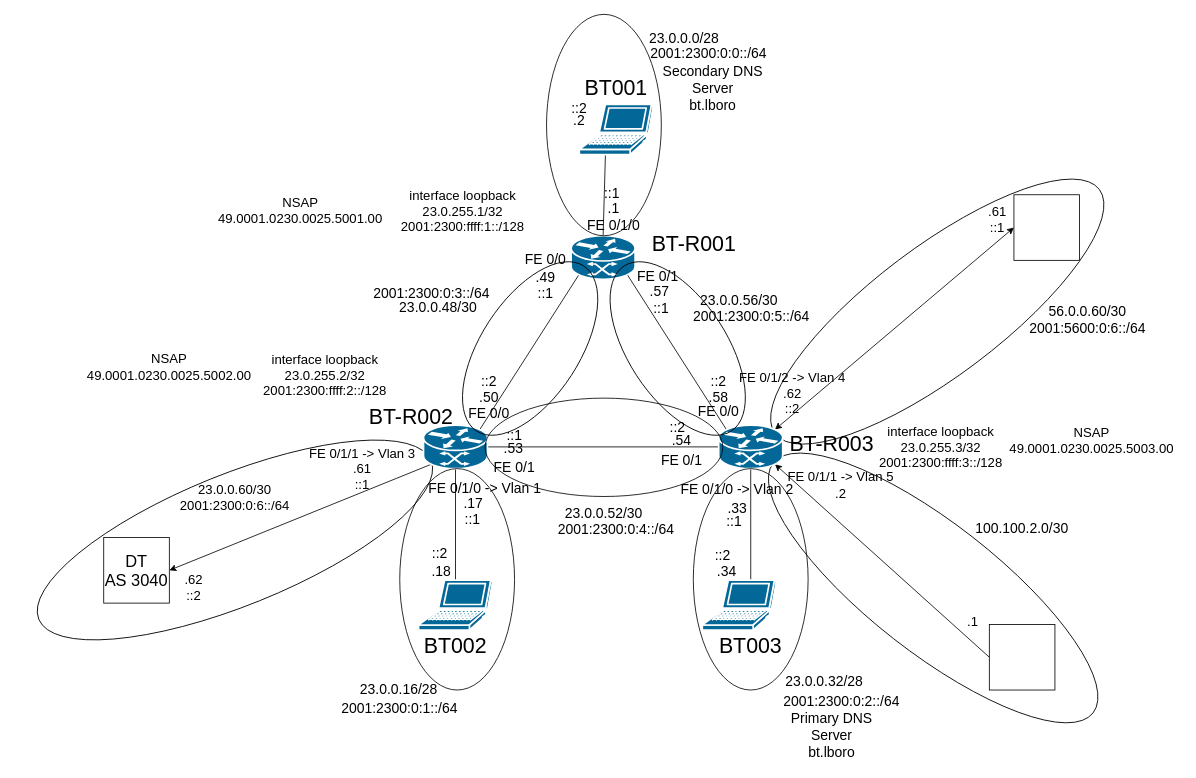
The diagram is 1196 pixels wide and 778 high, and some of its shapes have lost their labels. Here are the shapes that lost their labels. From the top down, the centre of each, then its label:
(x=1046, y=227): VIRGIN AS 5060
(x=1022, y=657): CENTRAL AS 42
